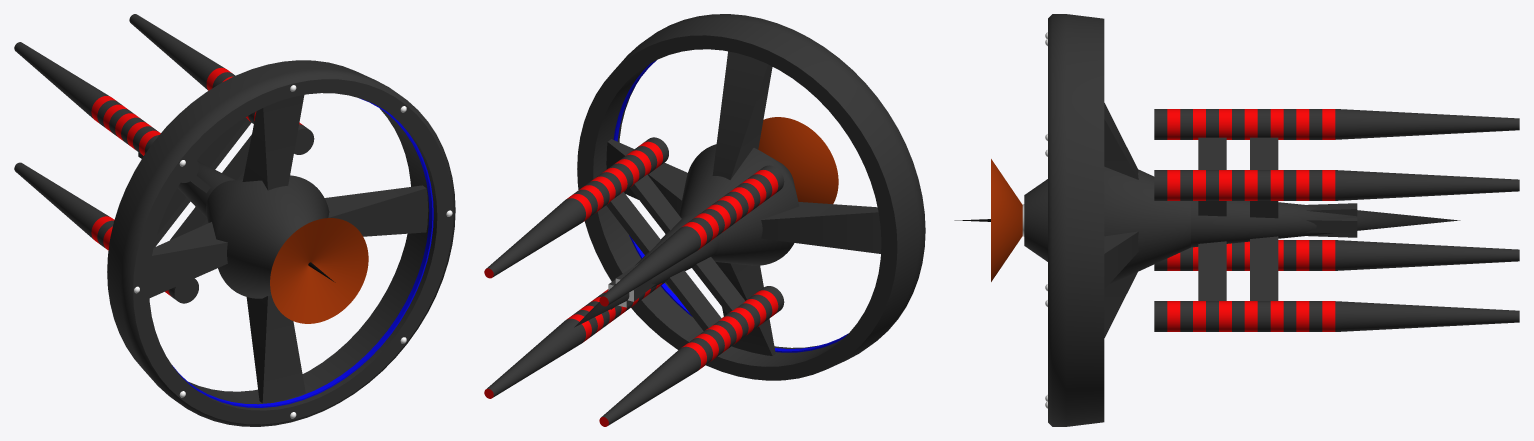
Rendered from NxProbe.FBX.
3 renders of one model, left to right at view 1: azimuth 30°, elevation 25°; view 2: azimuth 150°, elevation 25°; view 3: azimuth 270°, elevation 25°, orthographic. The views are drawn at different scales.
Parts seen in each view (by area): view 1: Engine, NxProbe, Radiators; view 2: Engine, NxProbe, Radiators; view 3: Radiators, Engine, NxProbe.
Part boxes in pixels (x1,y1,x2,y2): Engine: (107, 60, 455, 426); NxProbe: (138, 95, 428, 403); Radiators: (14, 14, 314, 303); Engine: (577, 14, 925, 380); NxProbe: (574, 51, 881, 355); Radiators: (484, 137, 784, 426); Radiators: (1154, 109, 1519, 331); Engine: (1045, 14, 1104, 426); NxProbe: (954, 103, 1460, 337).
Size of the model in its own units: 2 by 2 by 2.73.
